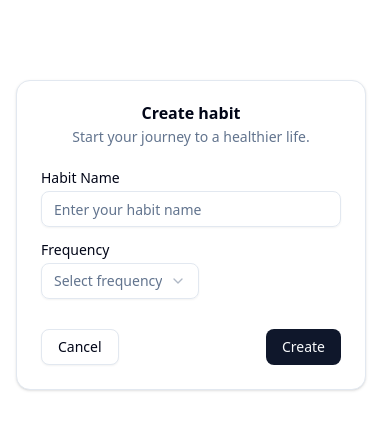
Test: template spec › Check String error message when is empty
Step 1. Click the dropdown with id "frequency" → (120, 281), box top-left (41, 263), bottom-right (199, 299)
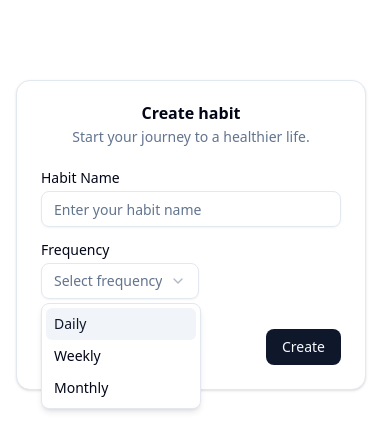
Step 2. Click the option with test id "Daily" → (121, 324), box top-left (46, 308), bottom-right (196, 340)
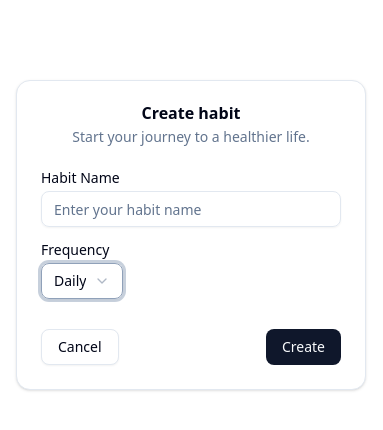
Step 3. Scroll
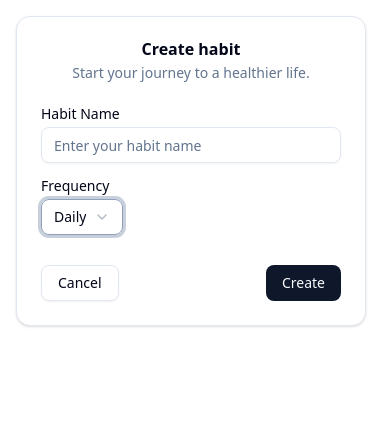
Step 4. Click the submit button → (304, 283), box top-left (266, 265), bottom-right (341, 301)
(page scrolled)
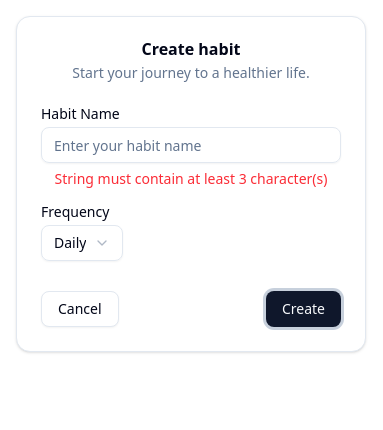
Expected: the text "String must contain at least 3 character(s)" is shown, top-left (41, 169), bottom-right (341, 189)
